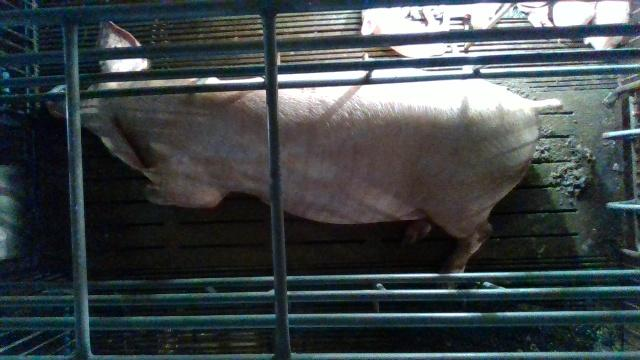piglet: (360, 3, 452, 57), (583, 2, 630, 52), (516, 3, 597, 27)
sow-sit: (47, 18, 560, 291)
